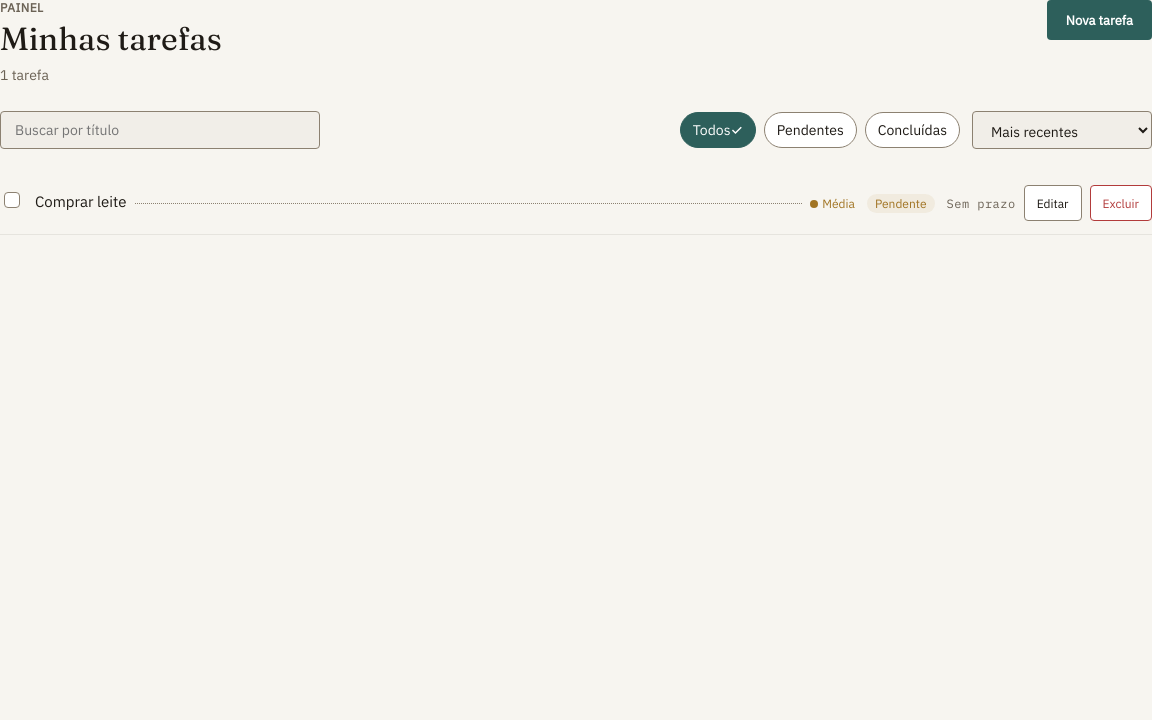
Scenario: TasksDashboardPage — CRUD › deletes a task after confirmation, and Cancelar leaves it untouched
Click the button named "Excluir \"Comprar leite\"" at (1121, 203), box [1090,185,1151,221]
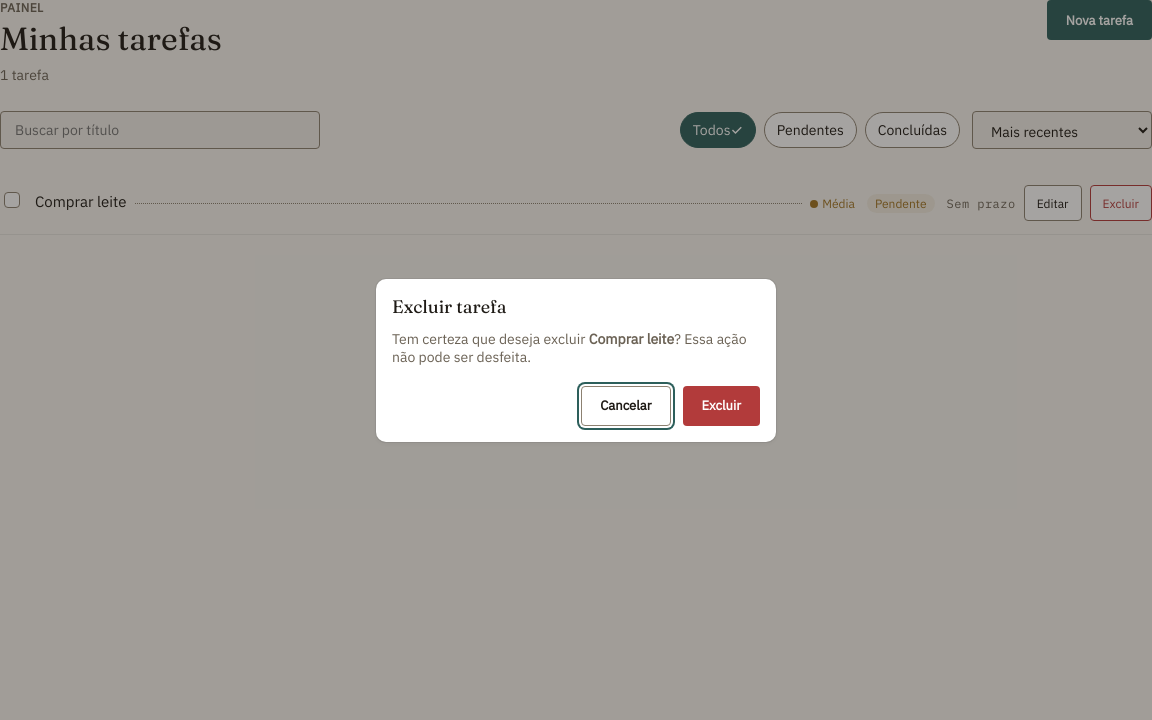
Click the button "Cancelar" at (626, 406), box [581,386,671,426]
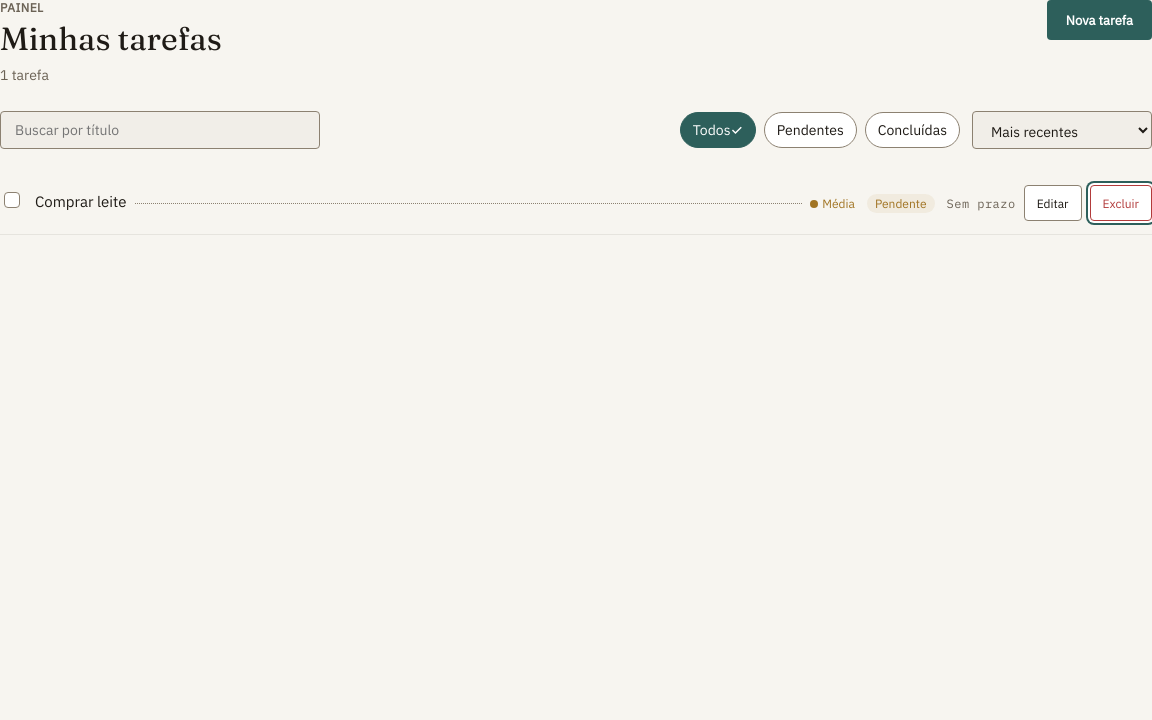
Expected: the text "Comprar leite" is shown, [35,192,126,210]
Click the button named "Excluir \"Comprar leite\"" at (1121, 203), box [1090,185,1151,221]
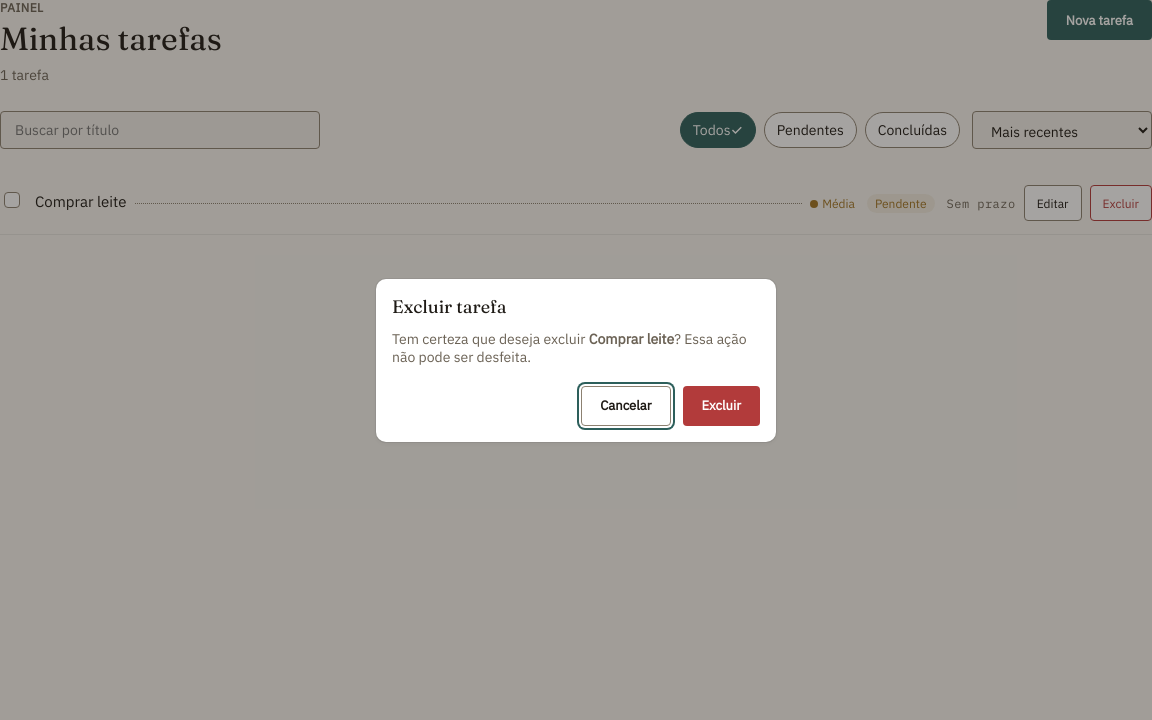
Click the button "Excluir" at (721, 406), box [682,386,760,426]
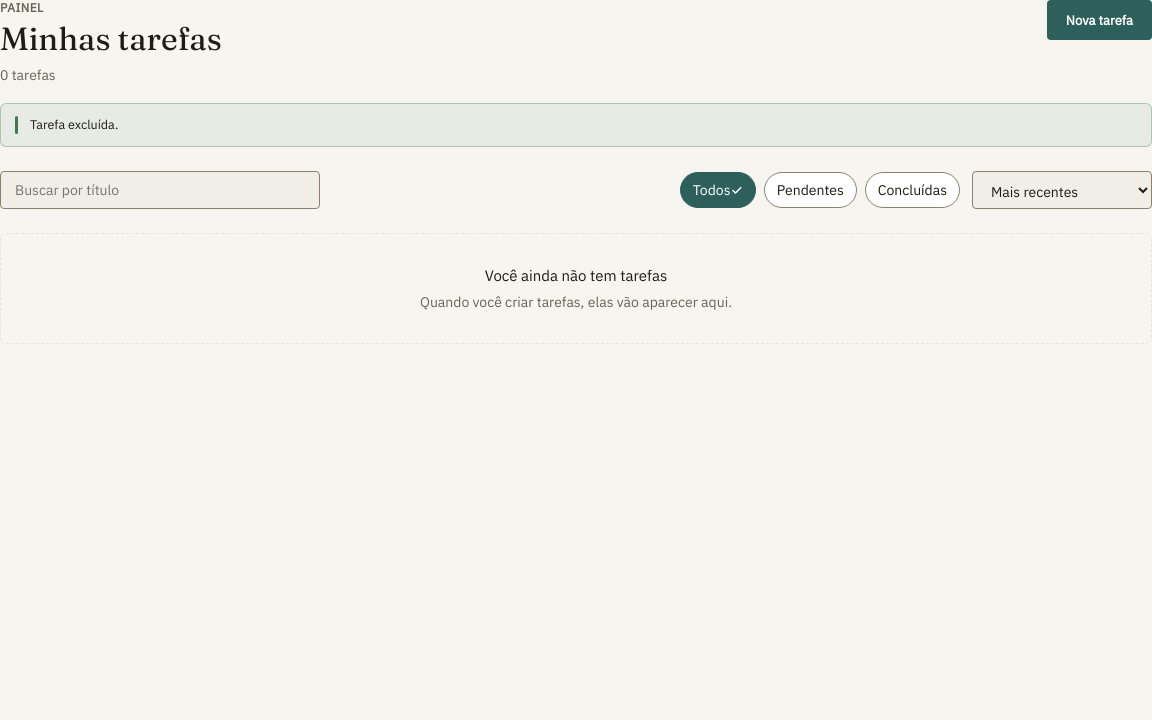
Now the text "Você ainda não tem tarefas" is shown, box [485,266,667,285]
